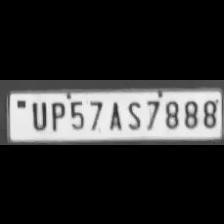5: (66, 96, 86, 130)
7: (86, 96, 104, 130), (142, 97, 160, 131)
8: (161, 96, 181, 130), (180, 97, 200, 129), (198, 96, 218, 128)
A: (104, 98, 122, 130)
P: (47, 97, 65, 130)
S: (124, 97, 142, 131)
U: (28, 98, 48, 130)
